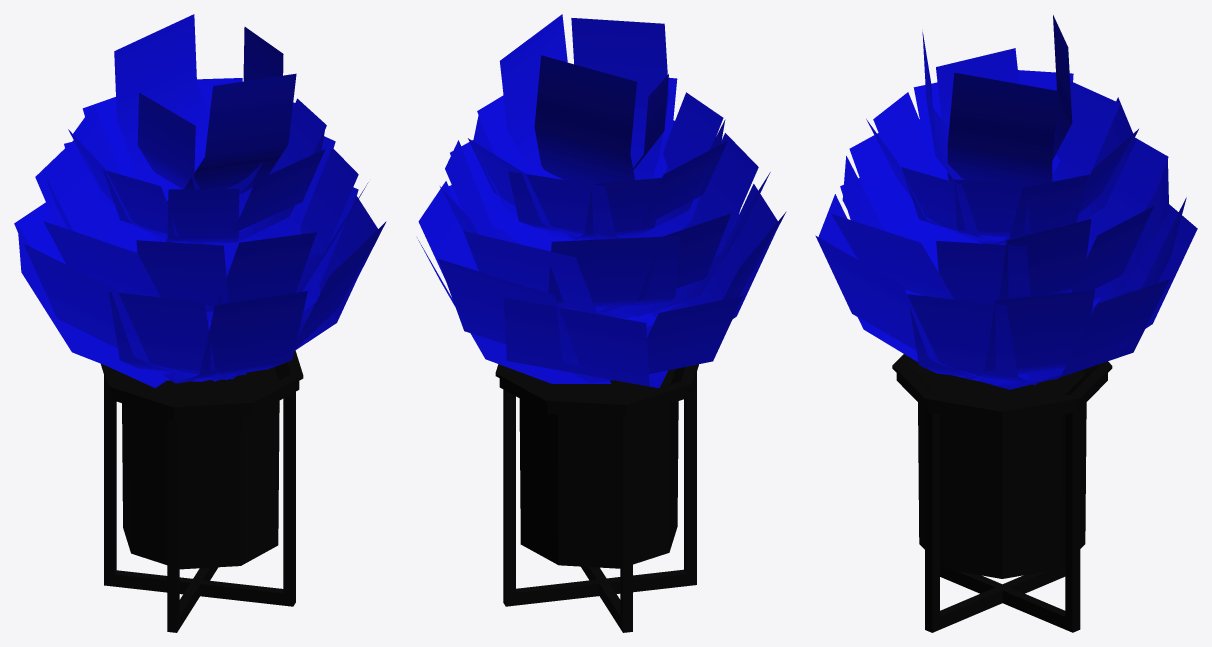
Rendered from potted plant variation.fbx.
3 renders of one model, left to right at view 1: azimuth 30°, elevation 25°; view 2: azimuth 150°, elevation 25°; view 3: azimuth 270°, elevation 25°, orthographic. The views are drawn at different scales.
Parts seen in each view (by area): view 1: pot; view 2: pot; view 3: pot.
Boxes of the visible parts, left/top/right/bottom form: pot: left=14, top=14, right=386, bottom=632; pot: left=417, top=14, right=786, bottom=632; pot: left=815, top=15, right=1197, bottom=632.
Size of the model in its own units: 103 by 172 by 105.
